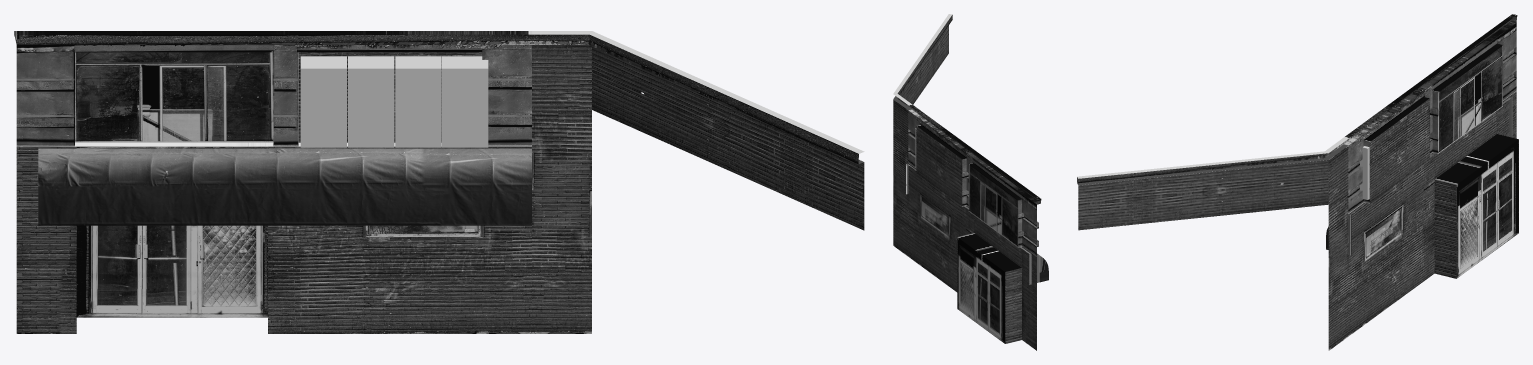
File: gambling_hall.fbx
The picture shows the model from 3 angles, left to right: view 1: azimuth 30°, elevation 25°; view 2: azimuth 150°, elevation 25°; view 3: azimuth 270°, elevation 25°; orthographic projection. The views are drawn at different scales.
Parts seen in each view (by area): view 1: Plane311, Plane312, Box001, Box002, Box003, Box004; view 2: Plane311, Plane312; view 3: Plane311, Plane312, Box004.
Boxes of the visible parts, <box> form: Plane311: <box>14,31,864,333</box>; Plane312: <box>38,148,531,225</box>; Box001: <box>300,56,346,147</box>; Box002: <box>348,56,394,147</box>; Box003: <box>395,56,441,147</box>; Box004: <box>442,56,488,147</box>; Plane311: <box>893,14,1041,350</box>; Plane312: <box>905,163,1048,284</box>; Plane311: <box>1077,14,1518,350</box>; Plane312: <box>1326,97,1512,255</box>; Box004: <box>1360,146,1369,199</box>.
Size of the model in its own units: 1508 by 844 by 1708.
